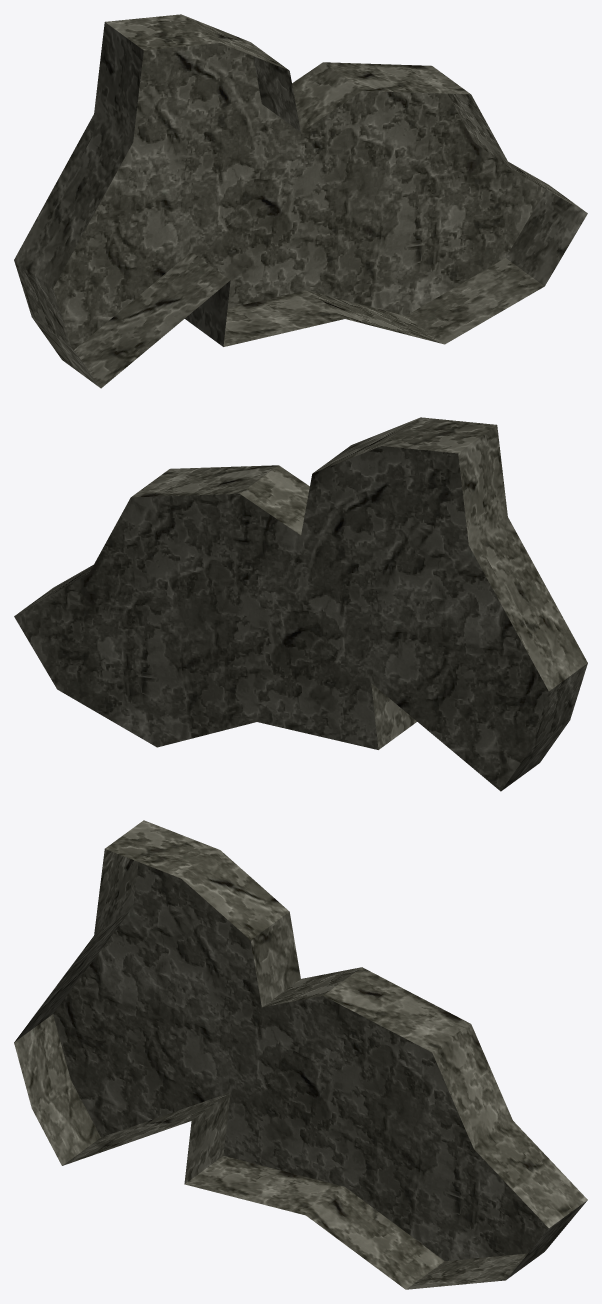
The model's file is TI_Plaster_08.fbx.
3 renders of one model, top to bottom at view 1: azimuth 30°, elevation 25°; view 2: azimuth 150°, elevation 25°; view 3: azimuth 330°, elevation 25°, orthographic.
Parts seen in each view (by area): view 1: TI_Plaster_08; view 2: TI_Plaster_08; view 3: TI_Plaster_08.
Boxes of the visible parts, x1,y1,x2,y2 form: TI_Plaster_08: [14, 14, 587, 388]; TI_Plaster_08: [14, 417, 587, 791]; TI_Plaster_08: [14, 820, 587, 1289].
Bounding box in the file's own units: 0.8368 × 0.5494 × 0.1059.
